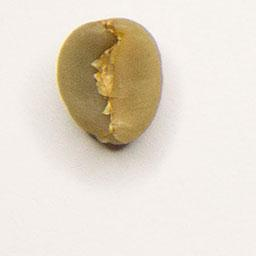premium: (53, 13, 165, 149)
